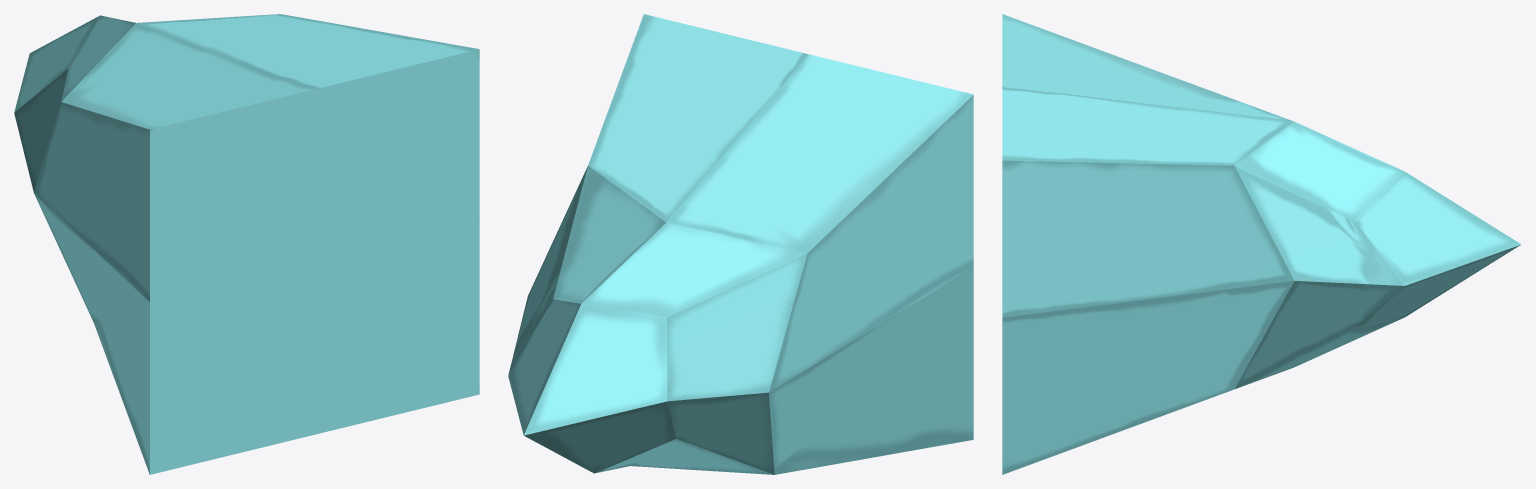
File: Ice_Parts.fbx
3 renders of one model, left to right at view 1: azimuth 30°, elevation 25°; view 2: azimuth 150°, elevation 25°; view 3: azimuth 270°, elevation 25°, orthographic. The views are drawn at different scales.
Visible parts, largest first — view 1: Ice_Parts02, Ice_Parts01, Ice_Parts03; view 2: Ice_Parts02, Ice_Parts03, Ice_Parts01; view 3: Ice_Parts01, Ice_Parts03, Ice_Parts02.
Boxes of the visible parts, x1,y1,x2,y2 form: Ice_Parts02: (34,23,314,474); Ice_Parts01: (137,14,479,434); Ice_Parts03: (14,15,135,192); Ice_Parts02: (666,54,973,474); Ice_Parts03: (508,165,807,474); Ice_Parts01: (588,14,808,222); Ice_Parts01: (1002,87,1294,474); Ice_Parts03: (1234,121,1521,388); Ice_Parts02: (1002,14,1293,121).
Size of the model in its own units: 2 by 2 by 2.99.
Materials: 1 (1 with a texture image).
